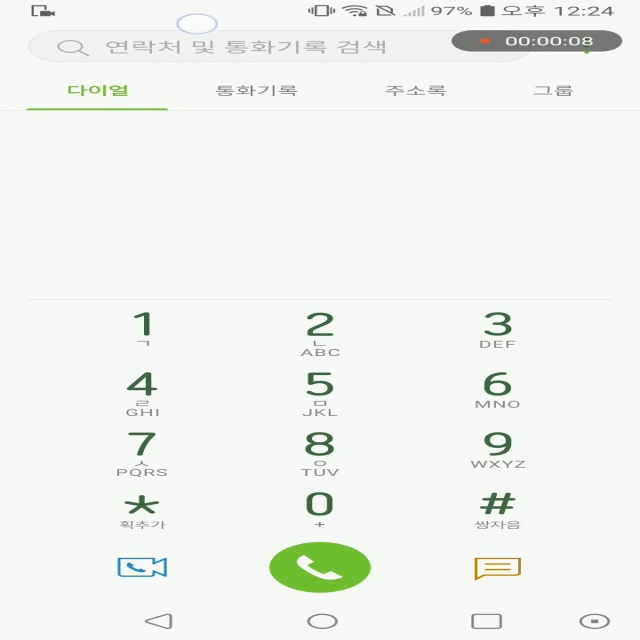Cursor: (176, 12, 221, 35)
